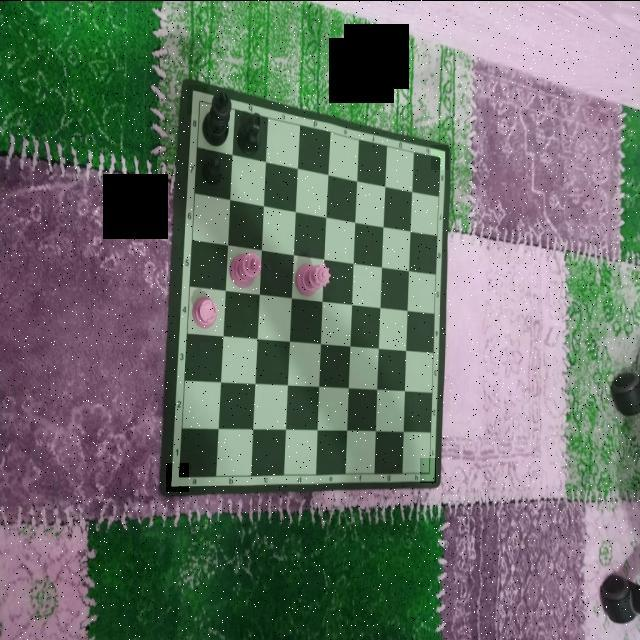chess-table-corners: (166, 462, 189, 491), (187, 84, 208, 114), (431, 144, 449, 169), (420, 457, 436, 482)
